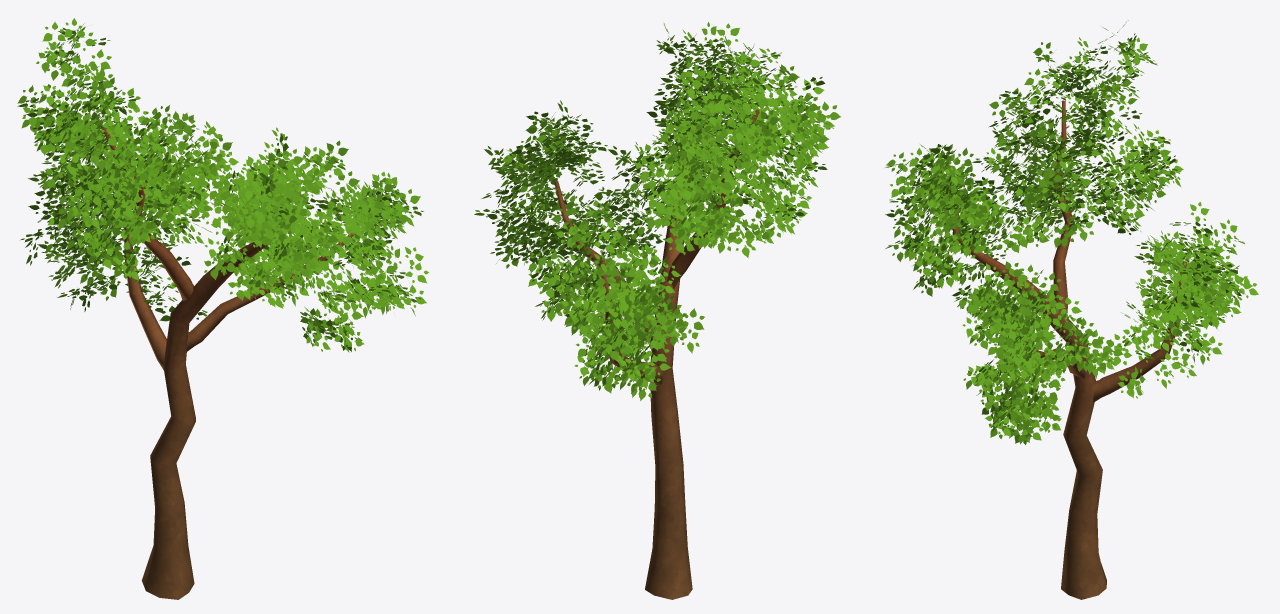
The model's file is SM_Tree_02.fbx.
3 views of the same model, side by side, from view 1: azimuth 30°, elevation 25°; view 2: azimuth 150°, elevation 25°; view 3: azimuth 270°, elevation 25° (orthographic). The views are drawn at different scales.
Visible parts, largest first — view 1: SM_Tree_02; view 2: SM_Tree_02; view 3: SM_Tree_02.
Boxes of the visible parts, <box> form: SM_Tree_02: <box>17,18,428,599</box>; SM_Tree_02: <box>474,22,840,599</box>; SM_Tree_02: <box>885,20,1258,599</box>.
Size of the model in its own units: 425 by 401 by 605.
